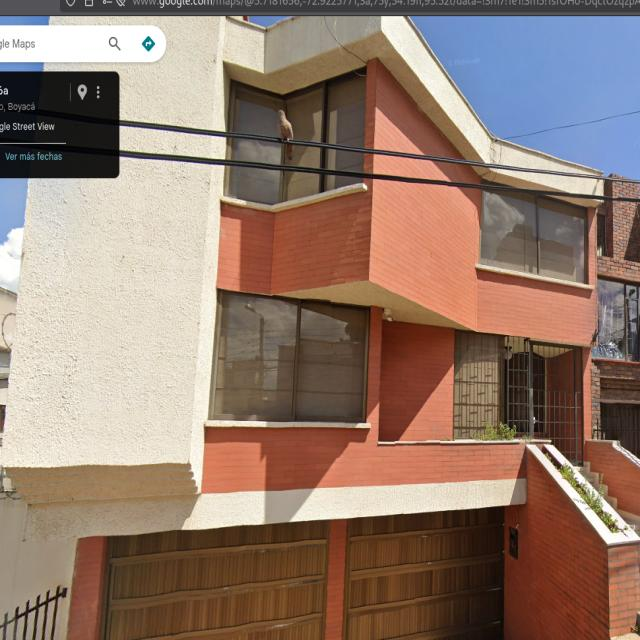Casa: (3, 10, 638, 639)
